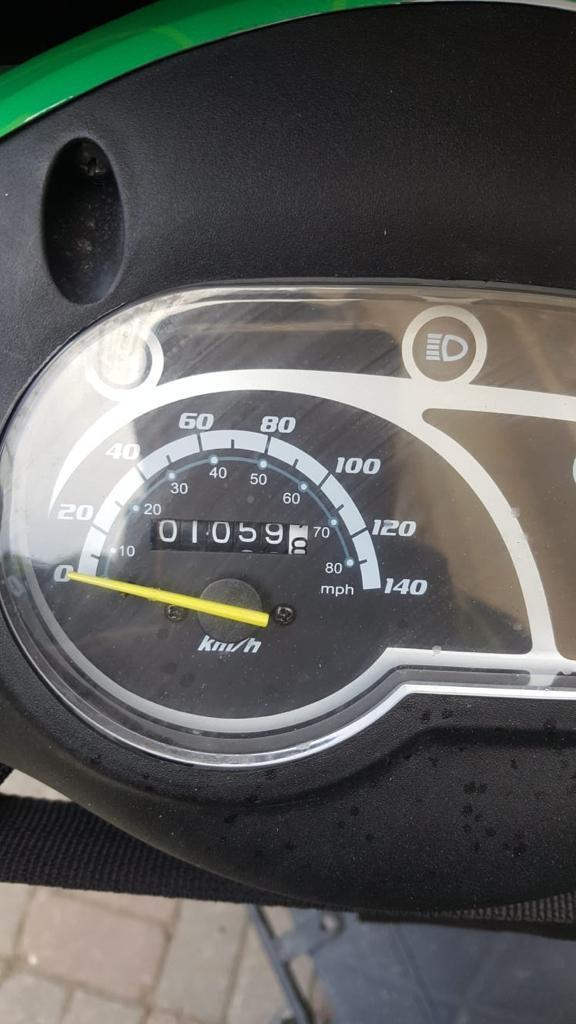0: (210, 520, 231, 544), (158, 519, 178, 543)
1: (189, 518, 200, 545)
5: (237, 520, 258, 543)
8: (289, 536, 309, 555)
9: (263, 521, 284, 545)
odometer: (146, 514, 312, 559)
